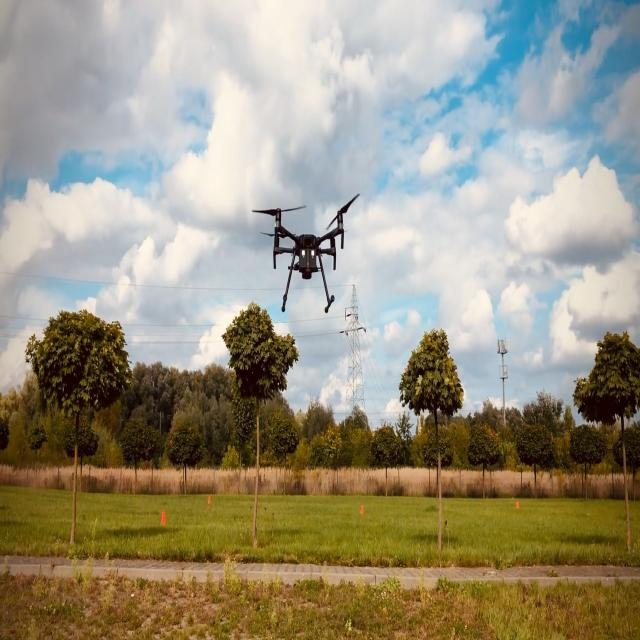drone: (251, 192, 360, 314)
